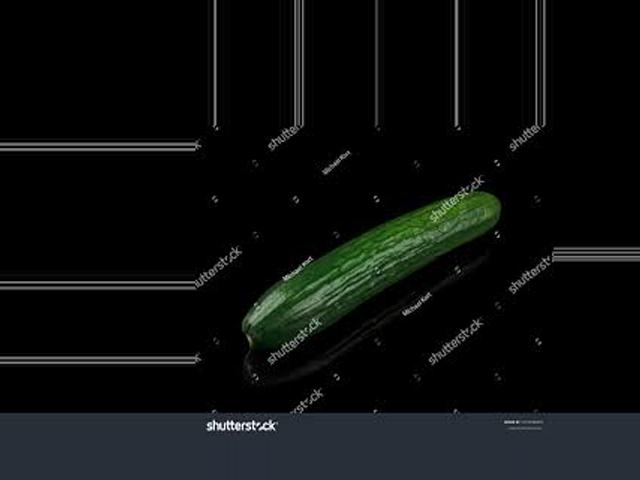cucumber: (242, 190, 503, 353)
